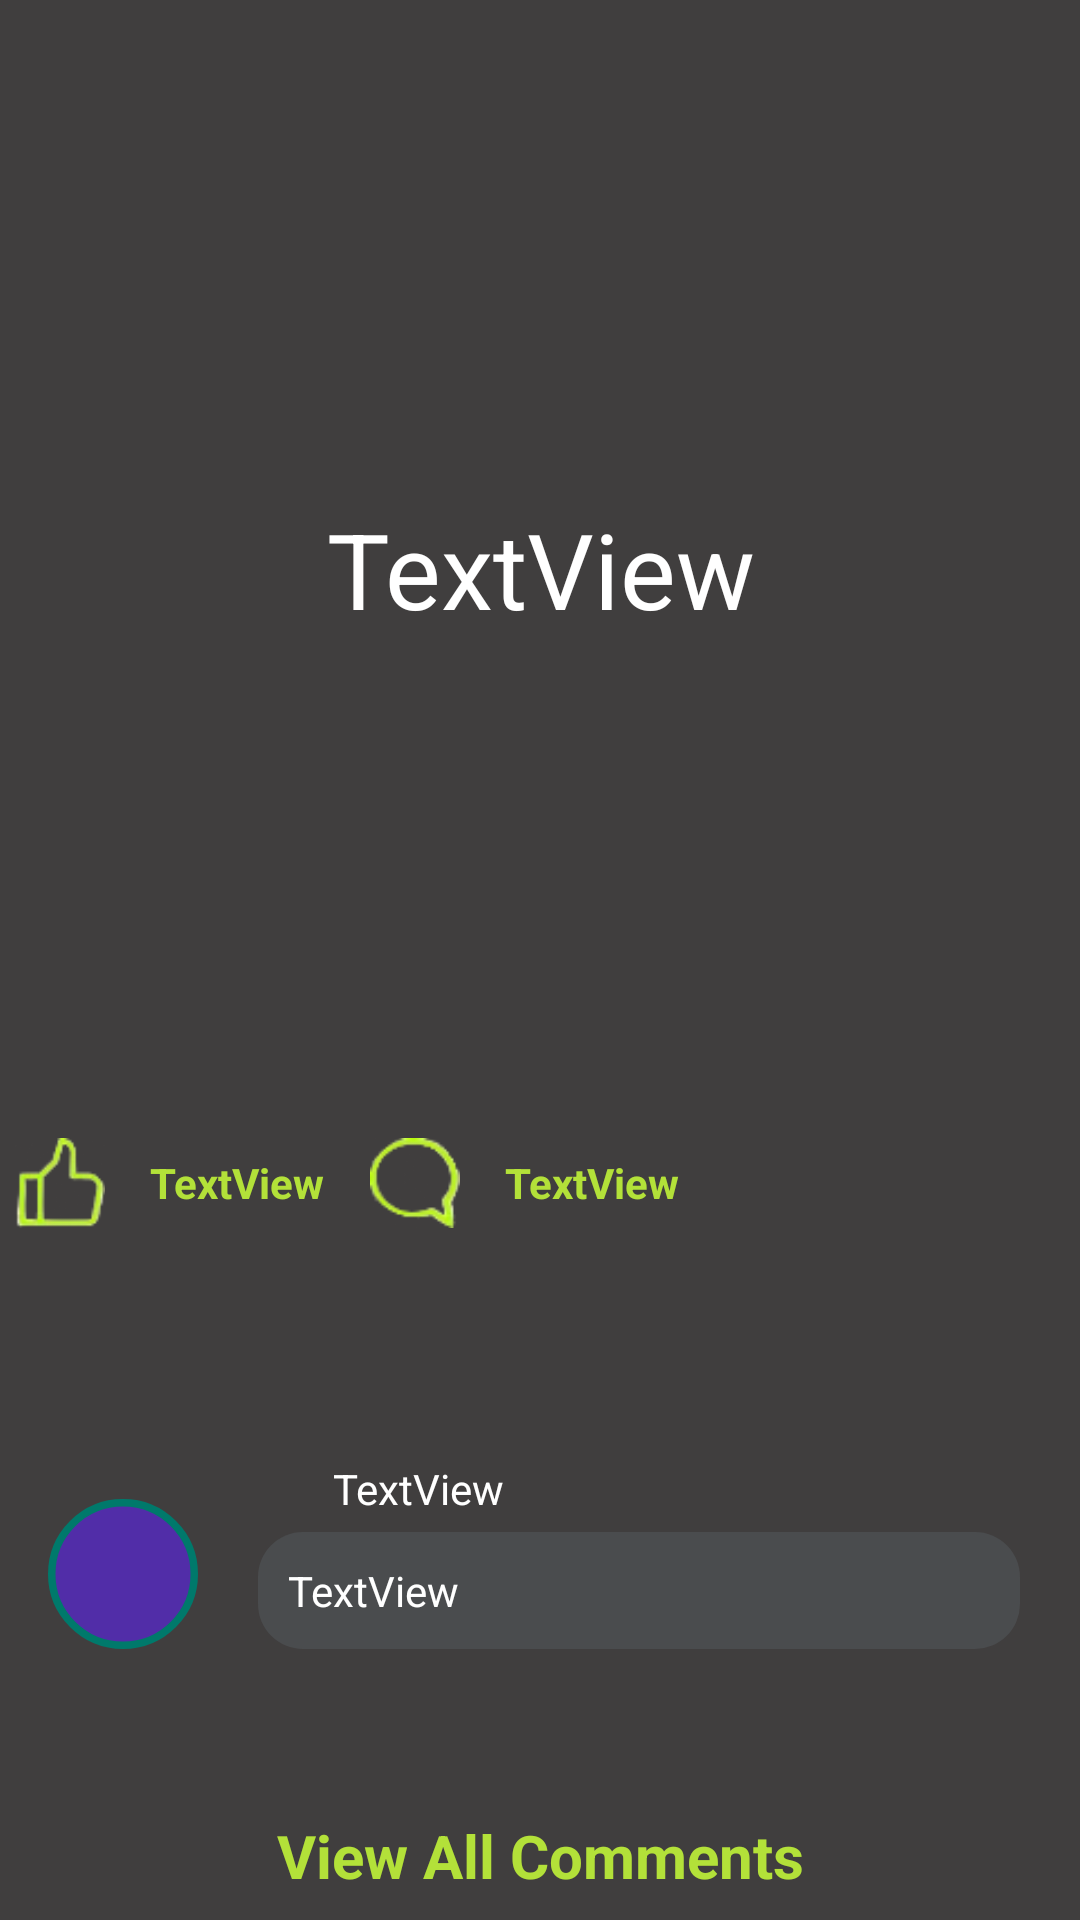

Named icons in this screenshot (1080 × 1920) and their bounding boxes, (x1, y1, x2, y2):
comment: (370, 1138, 460, 1228)
like: (16, 1138, 105, 1227)
